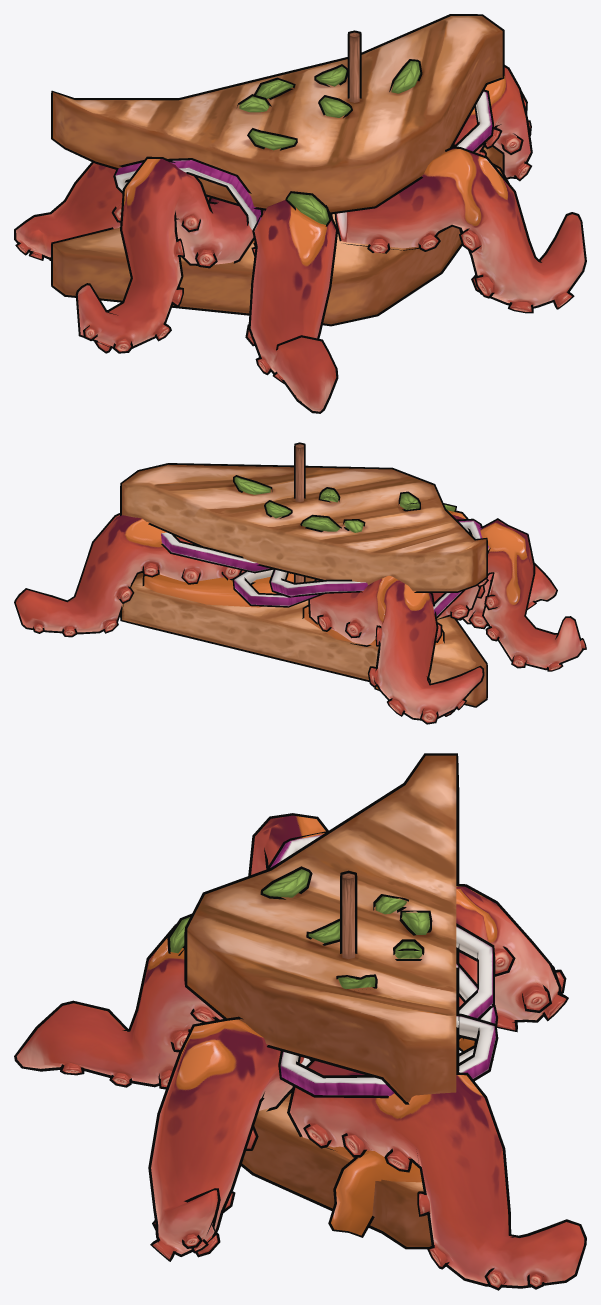
File: sandwich.glb
The picture shows the model from 3 angles, top to bottom: view 1: azimuth 30°, elevation 25°; view 2: azimuth 150°, elevation 25°; view 3: azimuth 270°, elevation 25°; orthographic projection. The views are drawn at different scales.
Parts seen in each view (by area): view 1: Bread_MAT_Cel_0, Bread CEL_MAT_Cel_0; view 2: Bread_MAT_Cel_0, Bread CEL_MAT_Cel_0; view 3: Bread_MAT_Cel_0, Bread CEL_MAT_Cel_0.
Part boxes in pixels (bbox=[...]): Bread_MAT_Cel_0: bbox=[16, 16, 584, 411]; Bread CEL_MAT_Cel_0: bbox=[14, 14, 586, 413]; Bread_MAT_Cel_0: bbox=[16, 444, 585, 722]; Bread CEL_MAT_Cel_0: bbox=[14, 442, 586, 724]; Bread_MAT_Cel_0: bbox=[16, 755, 584, 1287]; Bread CEL_MAT_Cel_0: bbox=[14, 753, 586, 1290].
Size of the model in its own units: 42.47 by 18.23 by 30.63.
1 material, 1 textured.
